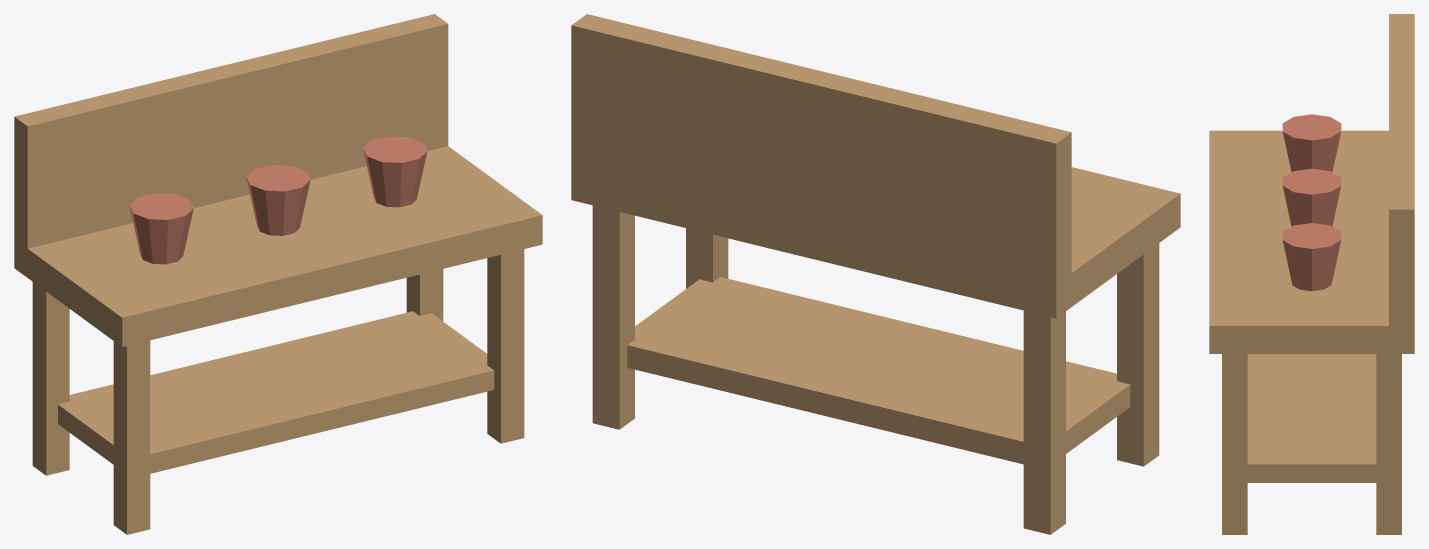
Rendered from cozy-farm-and-homestead-potting-bench-05990d68__19414.glb.
3 renders of one model, left to right at view 1: azimuth 30°, elevation 25°; view 2: azimuth 150°, elevation 25°; view 3: azimuth 270°, elevation 25°, orthographic. The views are drawn at different scales.
Parts seen in each view (by area): view 1: potting-bench; view 2: potting-bench; view 3: potting-bench.
Part boxes in pixels (<box>): potting-bench: <box>14,14,542,534</box>; potting-bench: <box>571,14,1180,534</box>; potting-bench: <box>1209,14,1414,534</box>.
Bounding box in the file's own units: 1.8 × 1.42 × 0.7999.
